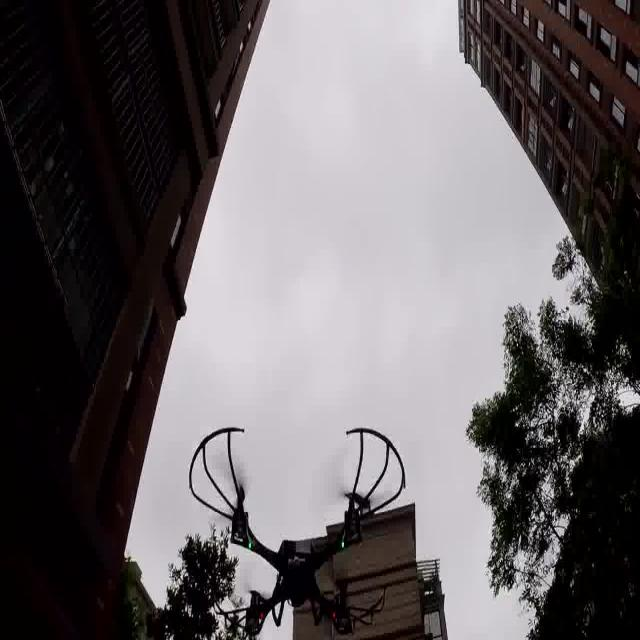drone: (181, 422, 397, 639)
